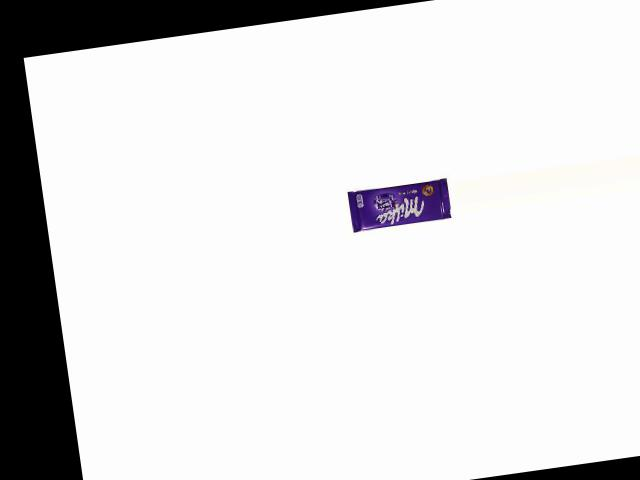chocolate: (341, 172, 453, 235)
